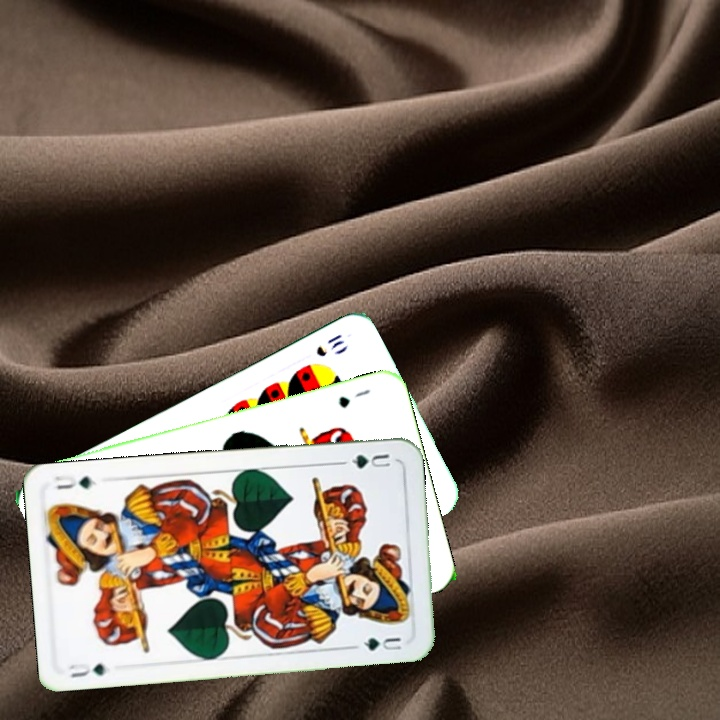GU: (337, 449, 393, 472), (334, 385, 372, 410), (65, 659, 109, 680)
S10: (312, 330, 347, 359)
